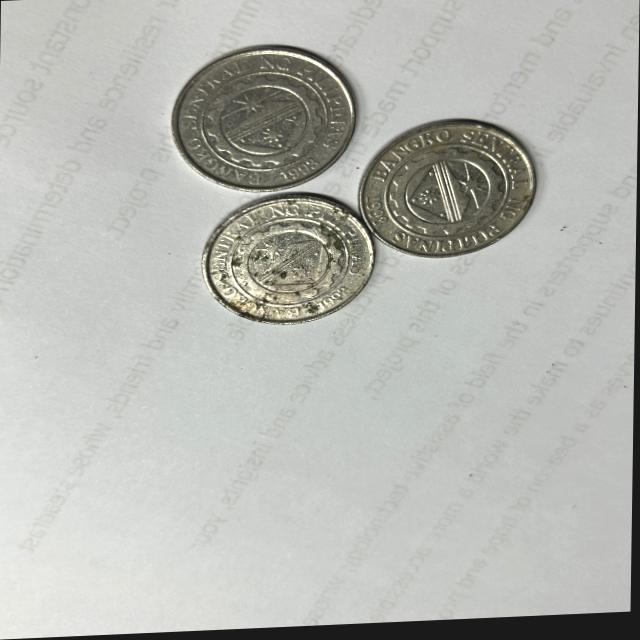1_Old_Back: (196, 67, 332, 178), (381, 140, 514, 247), (228, 212, 349, 312)
